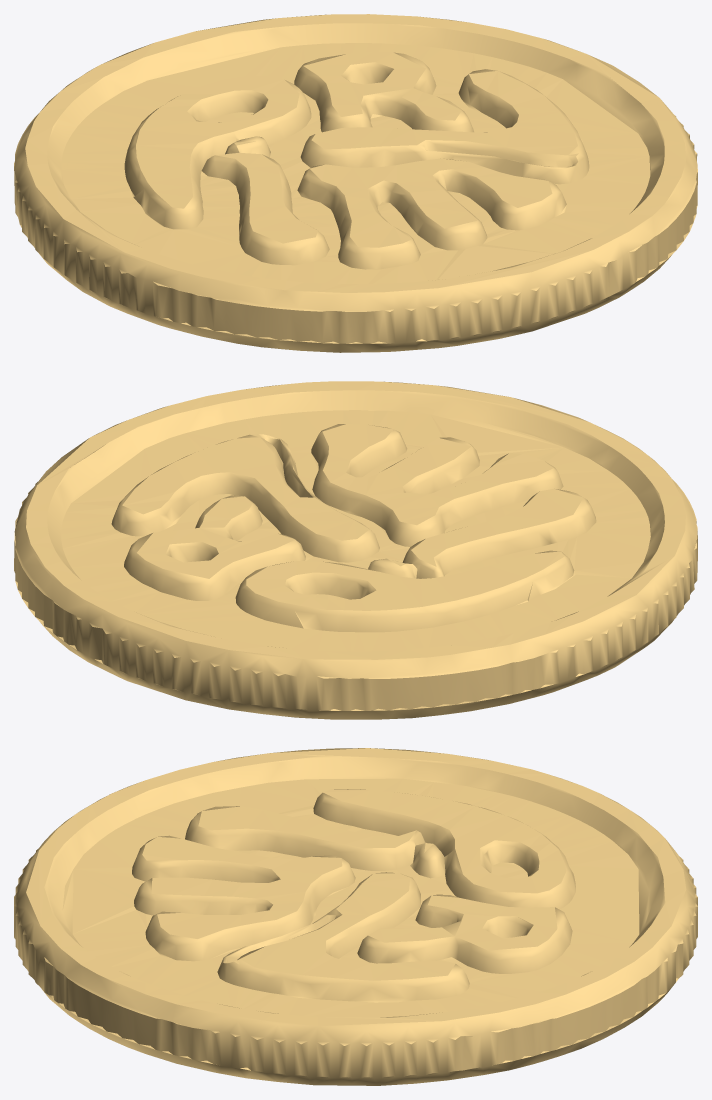
Rendered from SM_PIMLRCoin_Hi.fbx.
The picture shows the model from 3 angles, top to bottom: view 1: azimuth 30°, elevation 25°; view 2: azimuth 150°, elevation 25°; view 3: azimuth 270°, elevation 25°; orthographic projection.
Parts seen in each view (by area): view 1: SM_PIMLRCoin_Hi; view 2: SM_PIMLRCoin_Hi; view 3: SM_PIMLRCoin_Hi.
Part boxes in pixels (x1,y1,x2,y2): SM_PIMLRCoin_Hi: (14,14,697,352); SM_PIMLRCoin_Hi: (14,381,697,719); SM_PIMLRCoin_Hi: (14,748,697,1085).
Bounding box in the file's own units: 0.3001 × 0.0321 × 0.3001.
